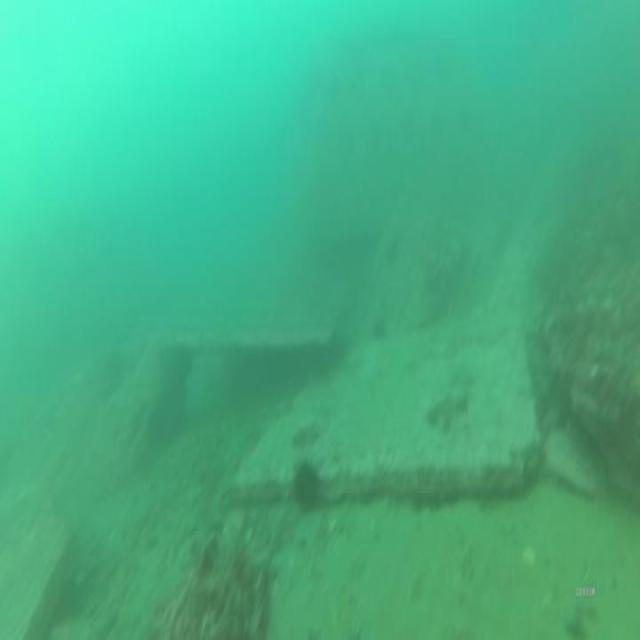echinus: (288, 450, 325, 520)
